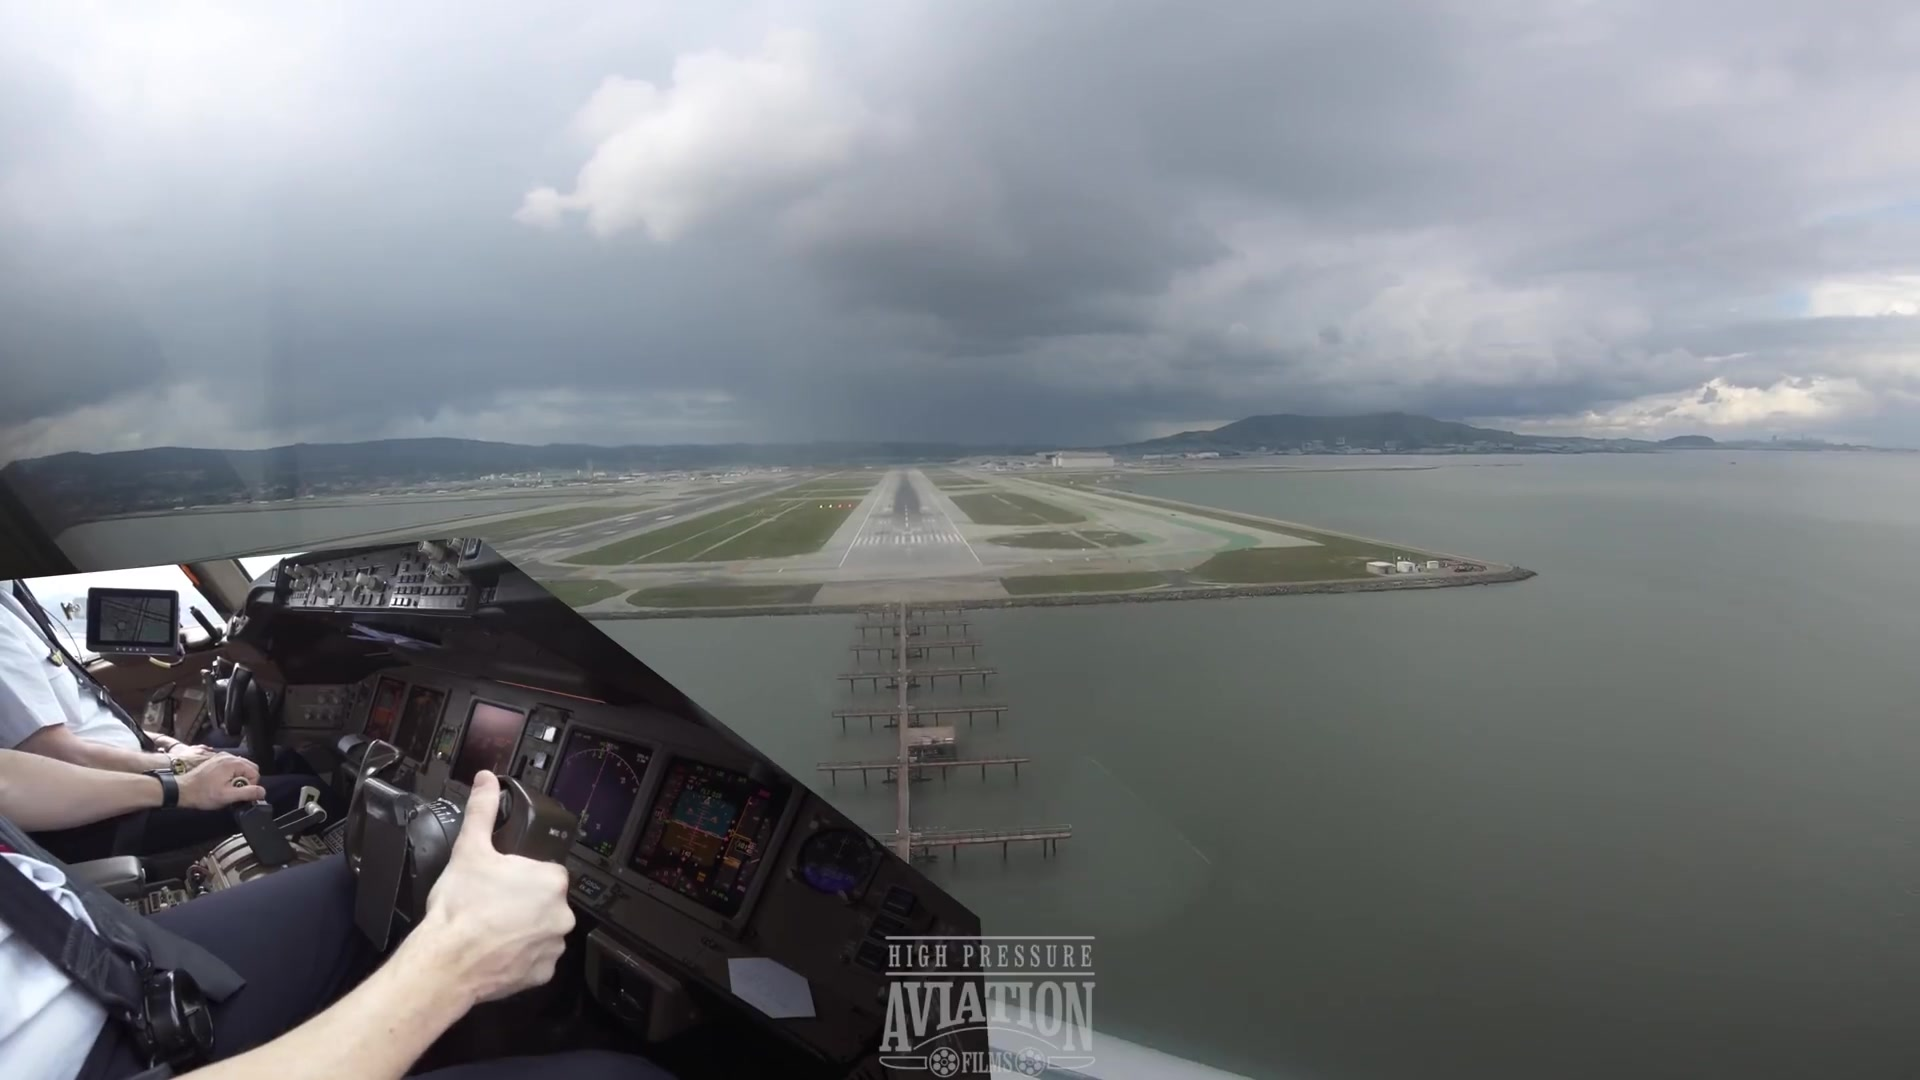entrance: (855, 531, 967, 549)
runway: (819, 468, 985, 579)
